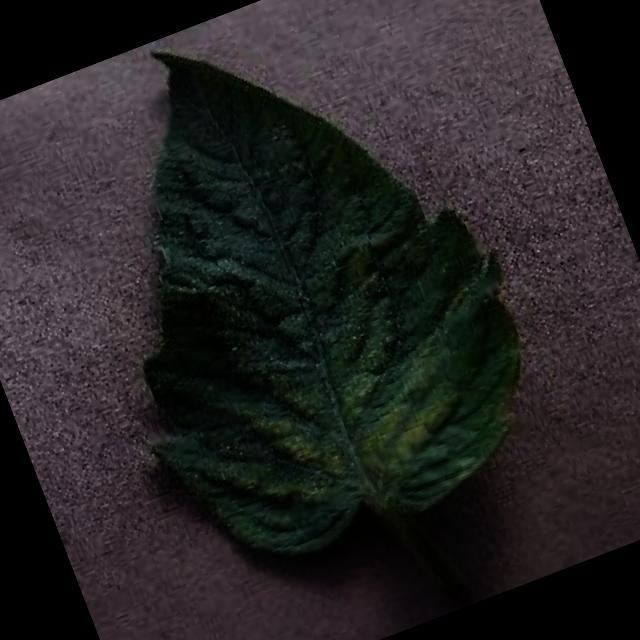Tomato spider mites leaf: (17, 0, 574, 597)
